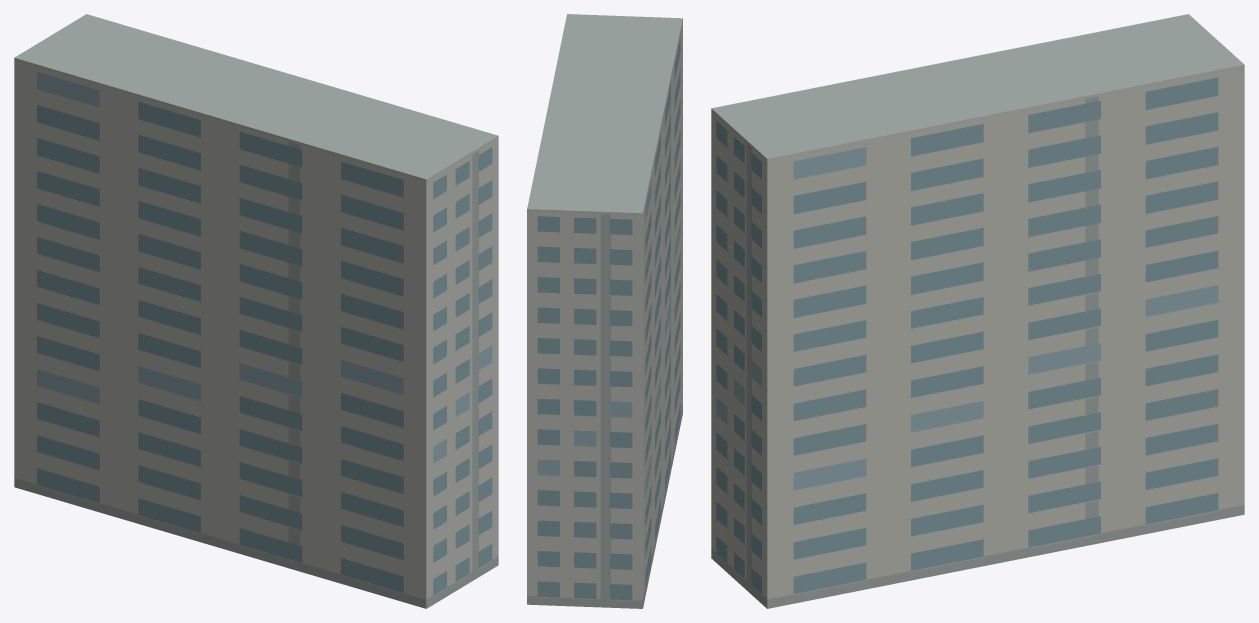
File: residential-318efbff-8f8f-4cde-9d62-1c8c0acba56b.glb
3 views of the same model, side by side, from view 1: azimuth 30°, elevation 25°; view 2: azimuth 150°, elevation 25°; view 3: azimuth 270°, elevation 25° (orthographic). The views are drawn at different scales.
Visible parts, largest first — view 1: residential-318efbff-8f8f-4cde-9d62-1c8c0acba56b.tmp; view 2: residential-318efbff-8f8f-4cde-9d62-1c8c0acba56b.tmp; view 3: residential-318efbff-8f8f-4cde-9d62-1c8c0acba56b.tmp.
Boxes of the visible parts, left/top/right/bottom form: residential-318efbff-8f8f-4cde-9d62-1c8c0acba56b.tmp: left=14, top=14, right=498, bottom=608; residential-318efbff-8f8f-4cde-9d62-1c8c0acba56b.tmp: left=527, top=14, right=682, bottom=608; residential-318efbff-8f8f-4cde-9d62-1c8c0acba56b.tmp: left=711, top=14, right=1244, bottom=608.
Bounding box in the file's own units: 27.63 × 40 × 42.97.
